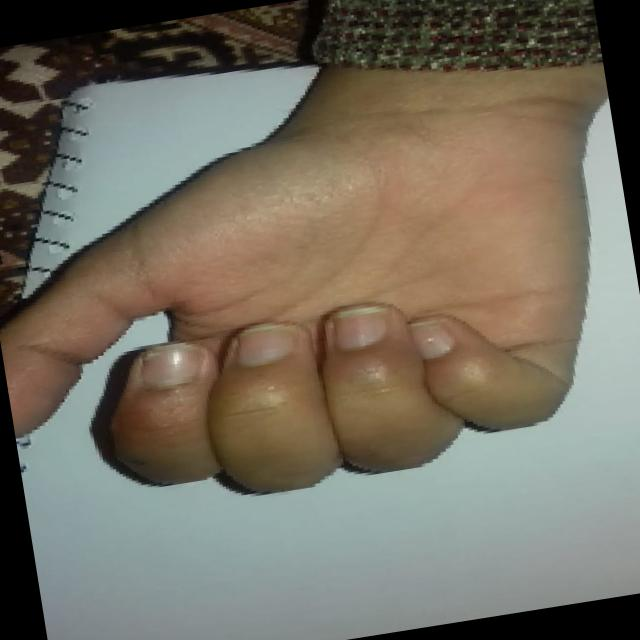Nail: (141, 342, 200, 386), (238, 323, 293, 366), (332, 305, 384, 347), (409, 318, 453, 358)
